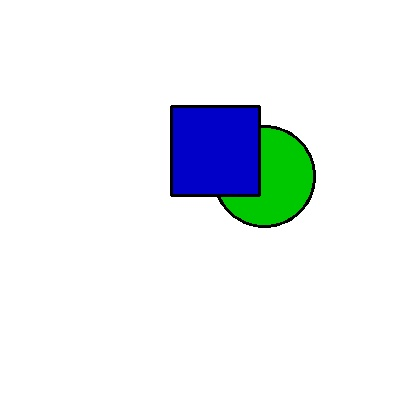circle: (209, 126, 319, 226)
rectangle: (171, 106, 259, 195), (212, 124, 257, 189)
